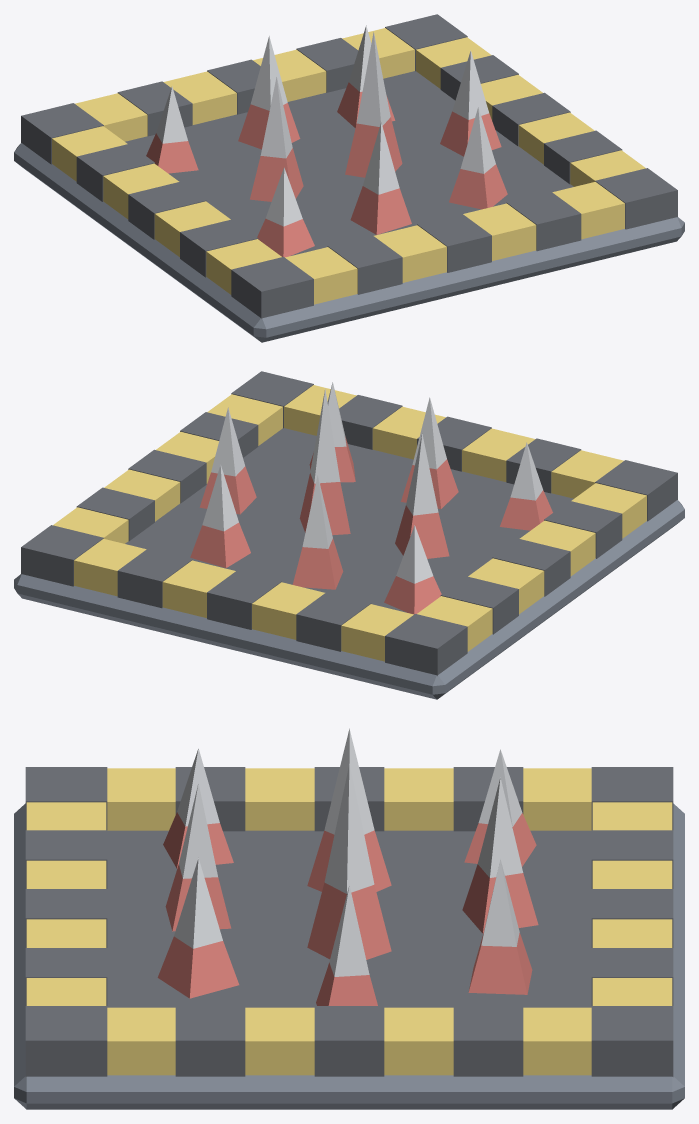
Rendered from SpikeTrap.fbx.
3 views of the same model, one above another, from view 1: azimuth 30°, elevation 25°; view 2: azimuth 150°, elevation 25°; view 3: azimuth 270°, elevation 25° (orthographic). The views are drawn at different scales.
Parts seen in each view (by area): view 1: SpikeTrap.HazardKerbDark, SpikeTrap.HazardKerb, SpikeTrap.DeckPit, SpikeTrap.BasePlate, SpikeTrap.SpikesBed, SpikeTrap.SpikesTips; view 2: SpikeTrap.HazardKerbDark, SpikeTrap.HazardKerb, SpikeTrap.DeckPit, SpikeTrap.BasePlate, SpikeTrap.SpikesBed, SpikeTrap.SpikesTips; view 3: SpikeTrap.HazardKerbDark, SpikeTrap.DeckPit, SpikeTrap.HazardKerb, SpikeTrap.BasePlate, SpikeTrap.SpikesBed, SpikeTrap.SpikesTips.
Boxes of the visible parts, x1=… form: SpikeTrap.HazardKerbDark: x1=21, y1=14, x2=677, y2=318; SpikeTrap.HazardKerb: x1=52, y1=28, x2=645, y2=304; SpikeTrap.DeckPit: x1=125, y1=71, x2=573, y2=255; SpikeTrap.BasePlate: x1=14, y1=143, x2=684, y2=342; SpikeTrap.SpikesBed: x1=146, y1=82, x2=507, y2=257; SpikeTrap.SpikesTips: x1=156, y1=25, x2=495, y2=226; SpikeTrap.HazardKerbDark: x1=21, y1=371, x2=677, y2=675; SpikeTrap.HazardKerb: x1=53, y1=385, x2=646, y2=661; SpikeTrap.DeckPit: x1=125, y1=428, x2=573, y2=612; SpikeTrap.BasePlate: x1=14, y1=500, x2=684, y2=699; SpikeTrap.SpikesBed: x1=190, y1=436, x2=552, y2=614; SpikeTrap.SpikesTips: x1=202, y1=382, x2=542, y2=583; SpikeTrap.HazardKerbDark: x1=25, y1=767, x2=673, y2=1076; SpikeTrap.DeckPit: x1=107, y1=830, x2=591, y2=1007; SpikeTrap.HazardKerb: x1=26, y1=768, x2=672, y2=1075; SpikeTrap.BasePlate: x1=14, y1=803, x2=684, y2=1109; SpikeTrap.SpikesBed: x1=157, y1=812, x2=538, y2=1005; SpikeTrap.SpikesTips: x1=174, y1=728, x2=523, y2=976.
Bounding box in the file's own units: 8 × 2.97 × 8.
